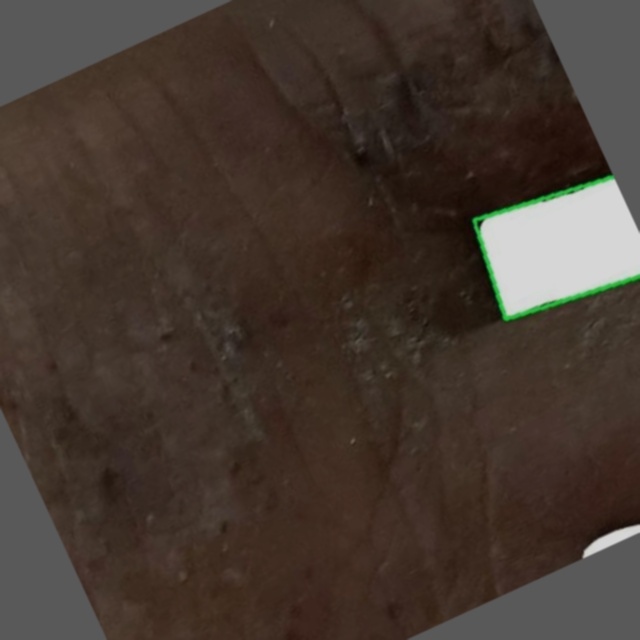Eczema: (474, 178, 639, 319)
